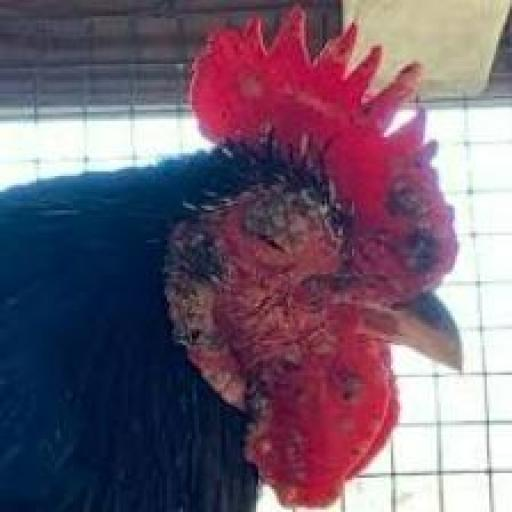disease: (188, 0, 457, 310), (150, 227, 402, 510), (201, 173, 340, 330)
